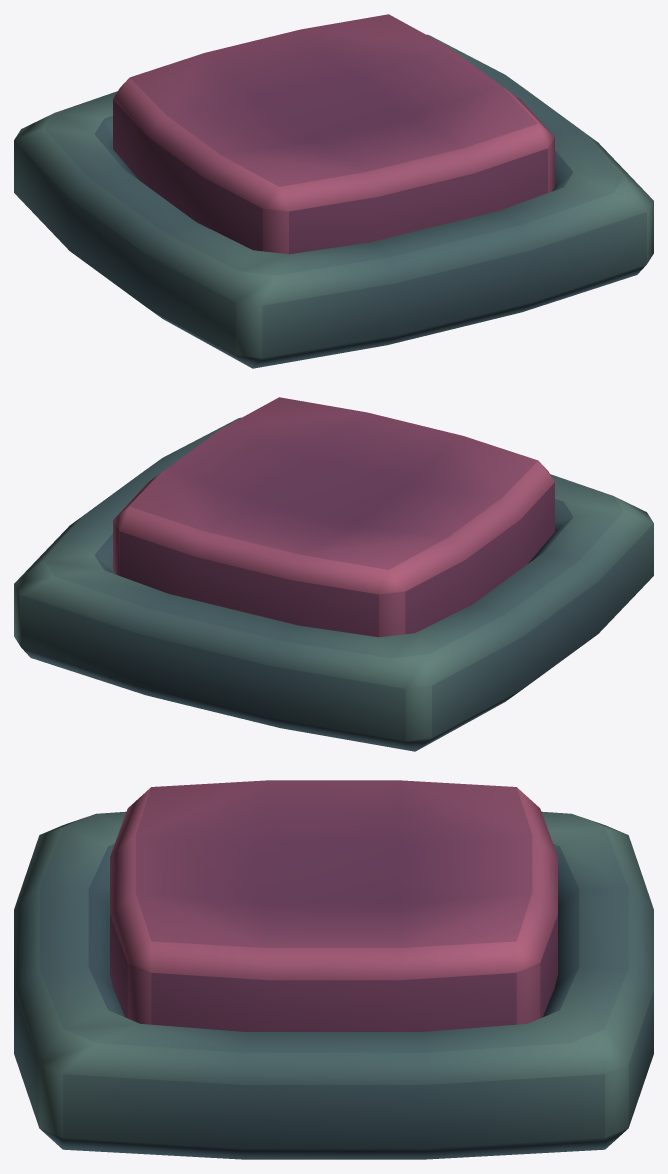
Rendered from switch_01.fbx.
The picture shows the model from 3 angles, top to bottom: view 1: azimuth 30°, elevation 25°; view 2: azimuth 150°, elevation 25°; view 3: azimuth 270°, elevation 25°; orthographic projection. The views are drawn at different scales.
Parts seen in each view (by area): view 1: switch_01, switch_plate; view 2: switch_01, switch_plate; view 3: switch_01, switch_plate.
Part boxes in pixels (bbox=[...]): switch_01: bbox=[14, 34, 653, 368]; switch_plate: bbox=[113, 14, 554, 254]; switch_01: bbox=[14, 417, 653, 751]; switch_plate: bbox=[113, 397, 554, 637]; switch_01: bbox=[14, 811, 653, 1159]; switch_plate: bbox=[110, 780, 557, 1031].
Size of the model in its own units: 136 by 40 by 136.
